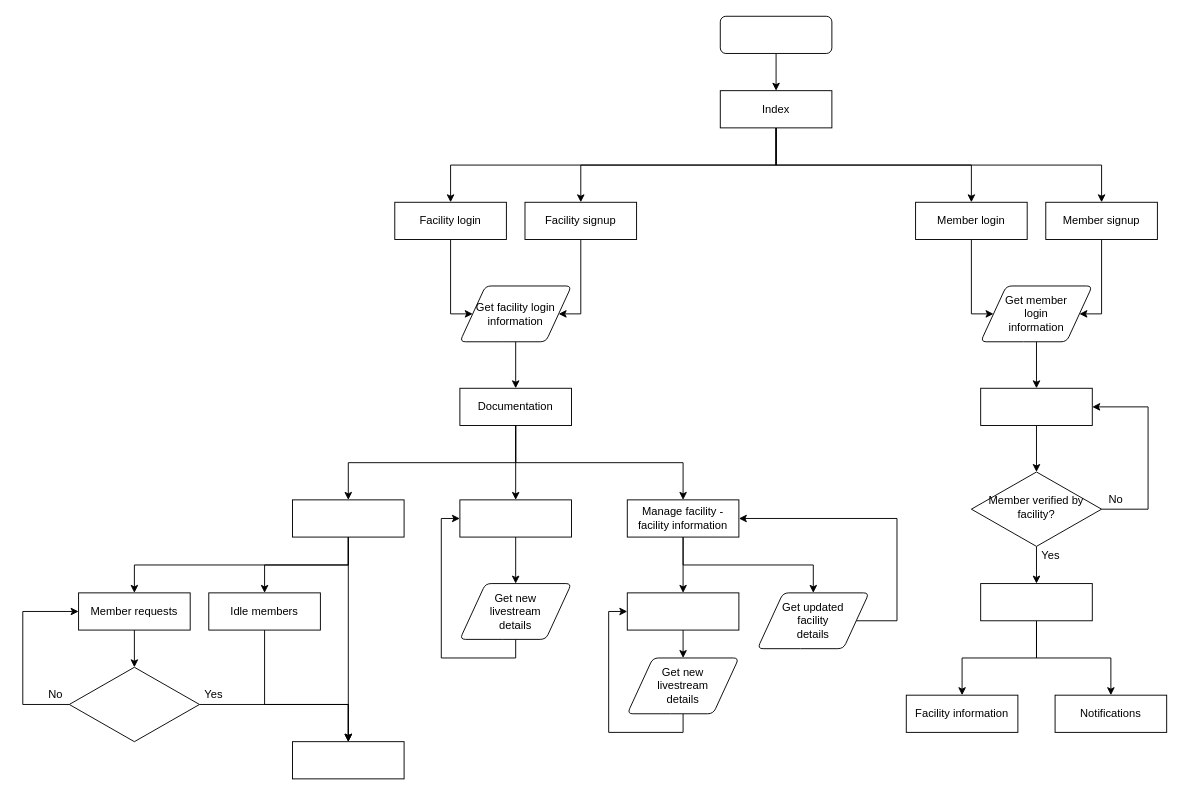
Image size: 1183x795. Some labels were removed from this diagram. Here are the shapes that lost their labels. From the top down, the box of each, then its label:
(719, 15, 832, 53): User enters website
(980, 387, 1092, 425): Verify user
(292, 499, 404, 537): Active members
(459, 499, 571, 537): Livestreams (new + existing)
(626, 592, 739, 630): Messages (new + existing)
(980, 583, 1092, 621): Livestreams
(68, 666, 199, 742): Accept member?
(292, 741, 404, 779): Manage member
